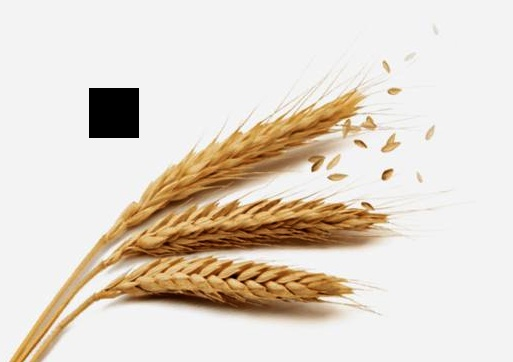wheat: (112, 87, 368, 222), (31, 252, 372, 340), (101, 190, 397, 261)
